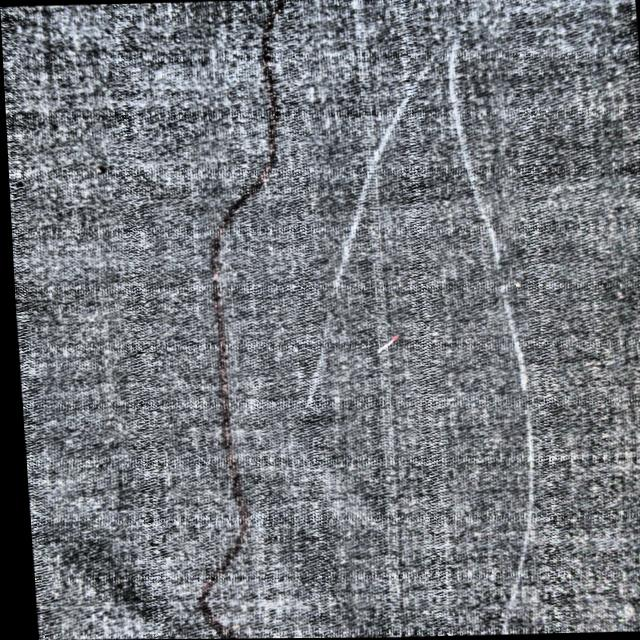Hole: (350, 0, 403, 637)
